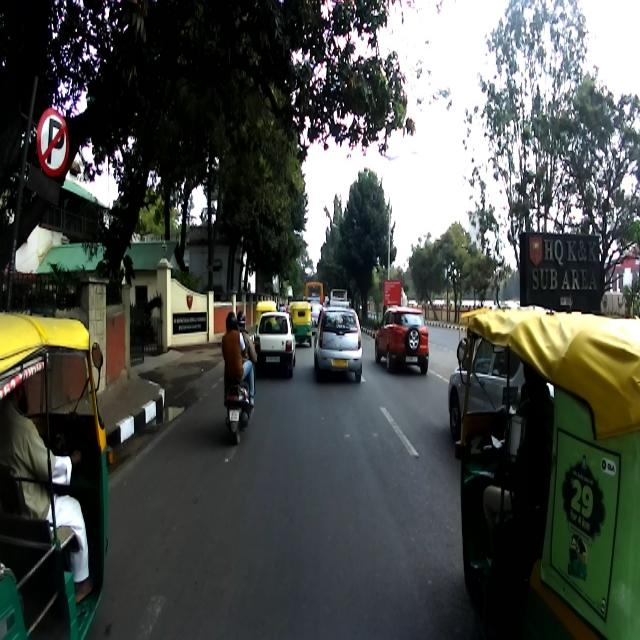autorickshaw: (453, 306, 639, 639), (0, 313, 114, 639)
car: (310, 305, 363, 381), (373, 305, 429, 374), (252, 310, 297, 379)
scooter: (224, 355, 258, 445)
